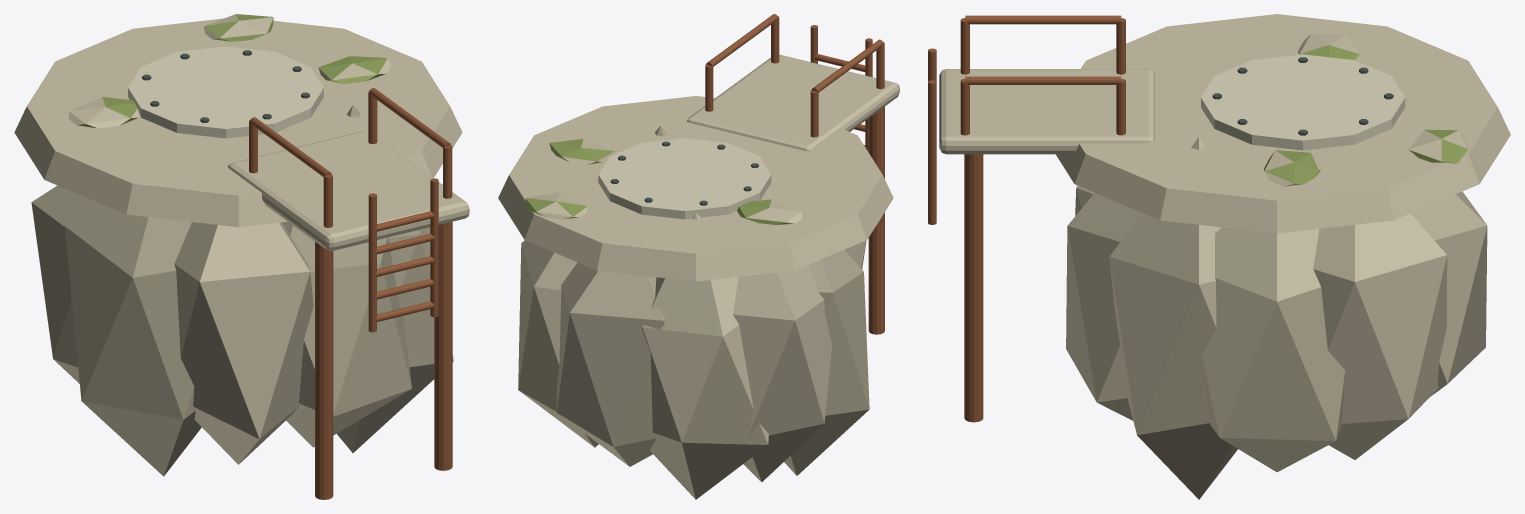
Rendered from Lake_Island_Dock.glb.
3 views of the same model, side by side, from view 1: azimuth 30°, elevation 25°; view 2: azimuth 150°, elevation 25°; view 3: azimuth 270°, elevation 25° (orthographic). The views are drawn at different scales.
Parts seen in each view (by area): view 1: Island cap, Eroded pillar.006, Eroded pillar.005, Dock slab, Terminal mounting pad, Eroded pillar.007, Eroded pillar.004, Eroded pillar.008, Dock support, Dock support.001, Moss cushion.001, Moss cushion (+7 smaller); view 2: Island cap, Eroded pillar.003, Eroded pillar.002, Eroded pillar.004, Dock slab, Terminal mounting pad, Eroded pillar.005, Eroded pillar.001, Dock support, Moss cushion.001, Moss cushion.002, Moss cushion (+2 smaller); view 3: Island cap, Eroded pillar, Eroded pillar.001, Eroded pillar.008, Dock slab, Terminal mounting pad, Eroded pillar.007, Eroded pillar.002, Dock support.001, Moss cushion, Moss cushion.002, Dock handrail (+3 smaller).
Part boxes in pixels (<box>): Island cap: <box>14,18,462,227</box>; Eroded pillar.006: <box>174,222,313,464</box>; Eroded pillar.005: <box>64,203,201,476</box>; Dock slab: <box>228,131,469,250</box>; Terminal mounting pad: <box>128,46,323,138</box>; Eroded pillar.007: <box>282,221,411,447</box>; Eroded pillar.004: <box>31,185,98,383</box>; Eroded pillar.008: <box>337,105,453,452</box>; Dock support: <box>315,241,333,499</box>; Dock support.001: <box>434,221,452,470</box>; Moss cushion.001: <box>69,97,139,128</box>; Moss cushion: <box>318,56,390,83</box>; Island cap: <box>498,96,893,281</box>; Eroded pillar.003: <box>642,213,768,499</box>; Eroded pillar.002: <box>556,262,664,466</box>; Eroded pillar.004: <box>733,266,831,481</box>; Dock slab: <box>686,54,899,151</box>; Terminal mounting pad: <box>598,138,771,219</box>; Eroded pillar.005: <box>784,249,869,475</box>; Eroded pillar.001: <box>518,240,598,447</box>; Dock support: <box>868,106,884,334</box>; Moss cushion.001: <box>737,199,801,224</box>; Moss cushion.002: <box>525,192,588,219</box>; Moss cushion: <box>549,139,614,164</box>; Island cap: <box>1056,14,1510,233</box>; Eroded pillar: <box>1201,227,1344,472</box>; Eroded pillar.001: <box>1313,213,1447,459</box>; Eroded pillar.008: <box>1109,137,1237,499</box>; Dock slab: <box>939,69,1154,154</box>; Terminal mounting pad: <box>1201,54,1405,150</box>; Eroded pillar.007: <box>1066,193,1141,420</box>; Eroded pillar.002: <box>1411,191,1487,396</box>; Dock support.001: <box>964,154,983,422</box>; Moss cushion: <box>1264,150,1321,186</box>; Moss cushion.002: <box>1408,129,1468,163</box>; Dock handrail: <box>965,15,1121,24</box>.
Bounding box in the file's own units: 5.4 × 5.28 × 6.73.
